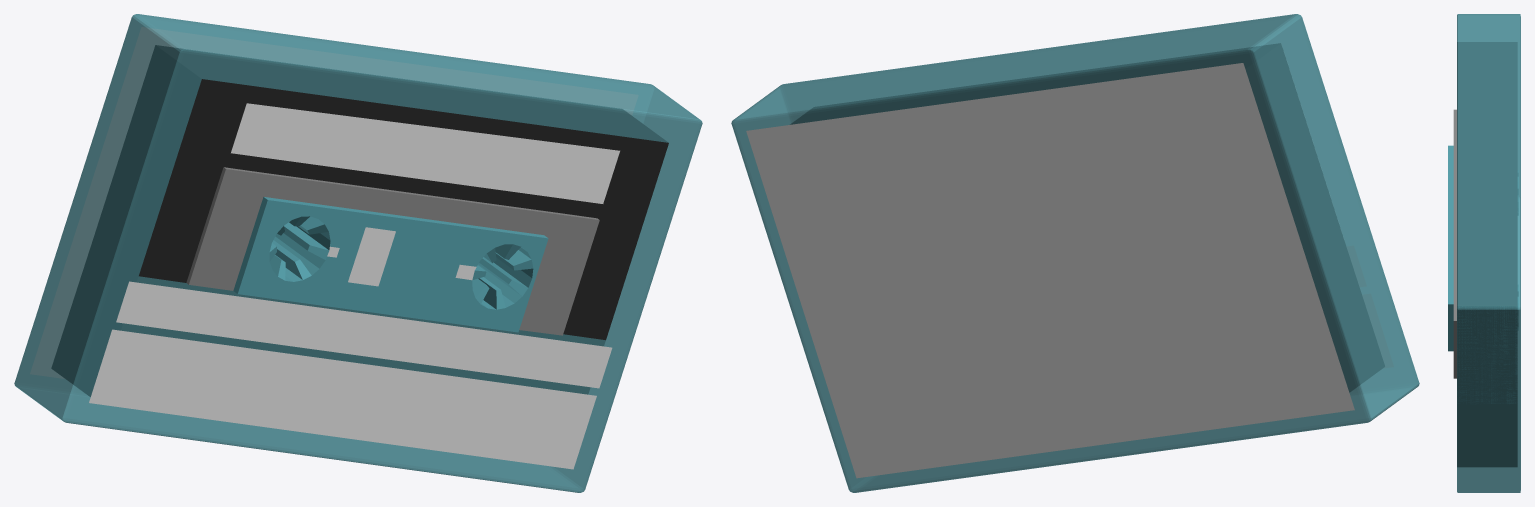
File: Cassette_Cyan.fbx
3 views of the same model, side by side, from view 1: azimuth 30°, elevation 25°; view 2: azimuth 150°, elevation 25°; view 3: azimuth 270°, elevation 25° (orthographic). The views are drawn at different scales.
Visible parts, largest first — view 1: Cube; view 2: Cube; view 3: Cube.
Boxes of the visible parts, x1,y1,x2,y2 form: Cube: (14, 14, 702, 492); Cube: (731, 14, 1419, 492); Cube: (1448, 14, 1520, 492).
Bounding box in the file's own units: 184 × 148 × 27.78.
